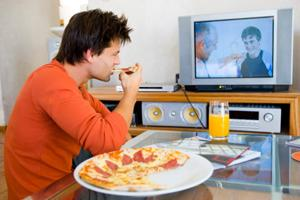person: (4, 9, 143, 199)
